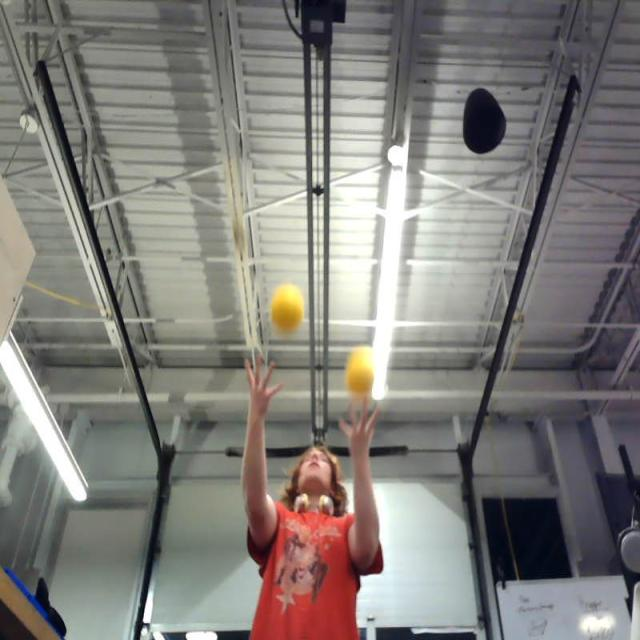Fuel: (272, 285, 304, 332), (347, 355, 373, 395)
